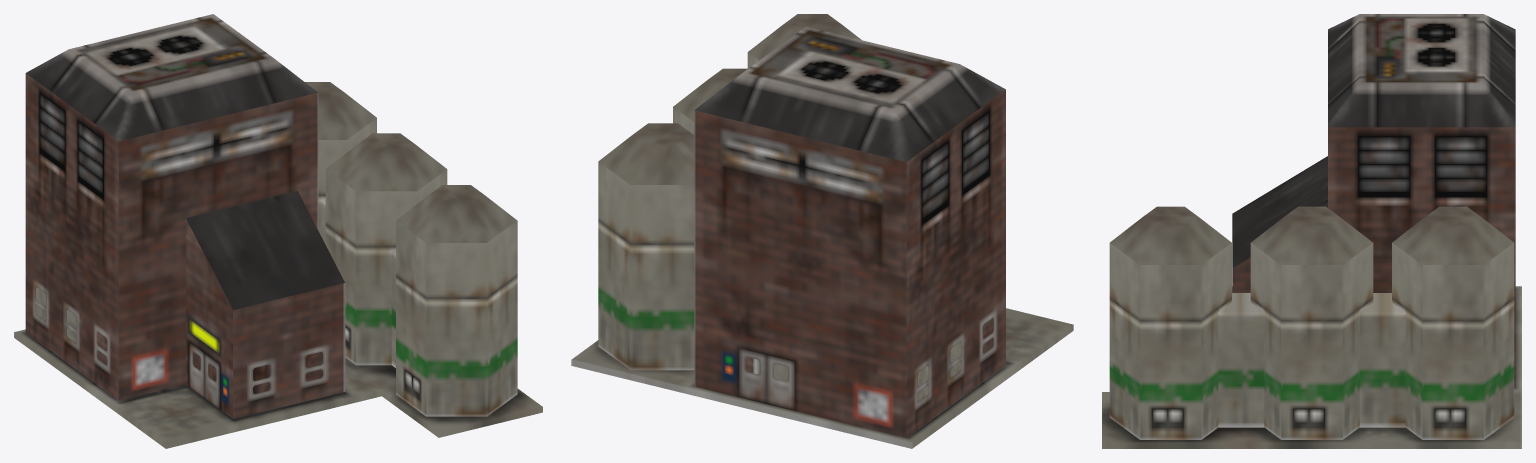
The model's file is chemicalplant.glb.
3 views of the same model, side by side, from view 1: azimuth 30°, elevation 25°; view 2: azimuth 150°, elevation 25°; view 3: azimuth 270°, elevation 25° (orthographic). The views are drawn at different scales.
Visible parts, largest first — view 1: ChemicalPlant, LitWin_ChemicalPlant; view 2: ChemicalPlant, LitWin_ChemicalPlant; view 3: ChemicalPlant.
Part boxes in pixels (x1,y1,x2,y2): ChemicalPlant: [14, 14, 542, 448]; LitWin_ChemicalPlant: [36, 287, 322, 393]; ChemicalPlant: [571, 14, 1073, 448]; LitWin_ChemicalPlant: [745, 318, 993, 401]; ChemicalPlant: [1102, 14, 1521, 448].
Size of the model in its own units: 16.19 by 14.2 by 18.29.
Materials: 1 (1 with a texture image).
